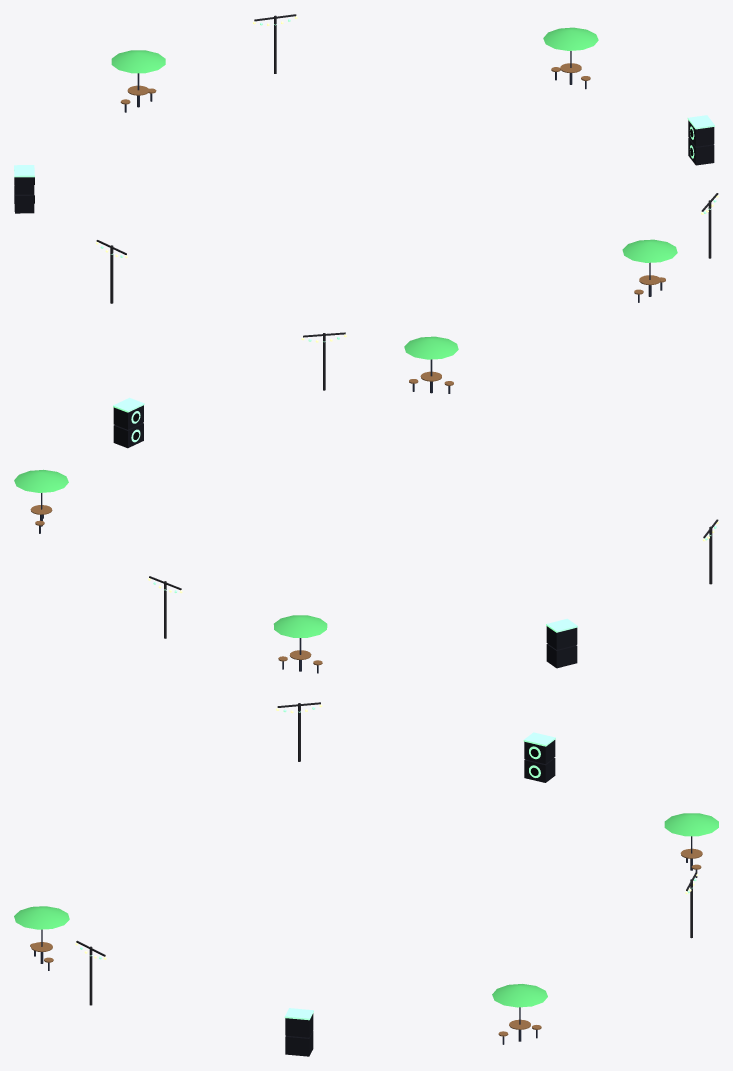
3 views of the same model, one above another, from view 1: azimuth 30°, elevation 25°; view 2: azimuth 150°, elevation 25°; view 3: azimuth 270°, elevation 25° (orthographic). The views are drawn at different scales.
Visible parts, largest first — view 1: nexo_decor_agora.lod0; view 2: nexo_decor_agora.lod0; view 3: nexo_decor_agora.lod0.
Boxes of the visible parts, x1,y1,x2,y2 form: nexo_decor_agora.lod0: (14, 14, 718, 303); nexo_decor_agora.lod0: (14, 332, 718, 673); nexo_decor_agora.lod0: (14, 702, 718, 1056).
Bounding box in the file's own units: 28.77 × 2.6 × 28.75.
